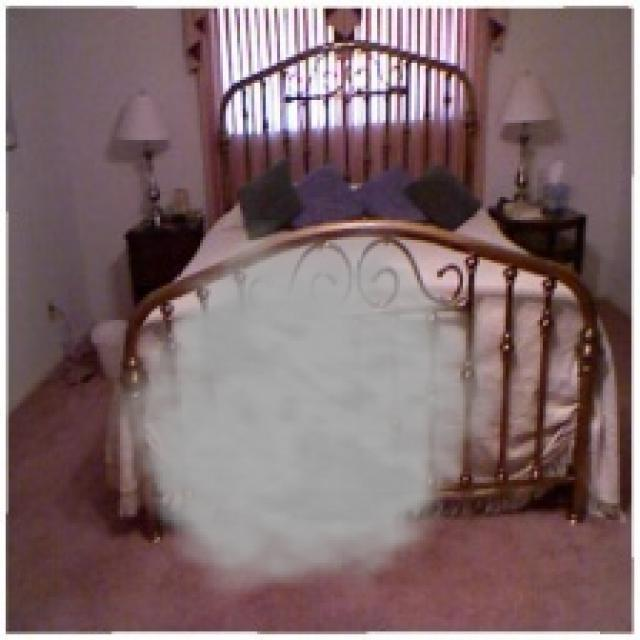Smoke: (100, 219, 517, 612)
